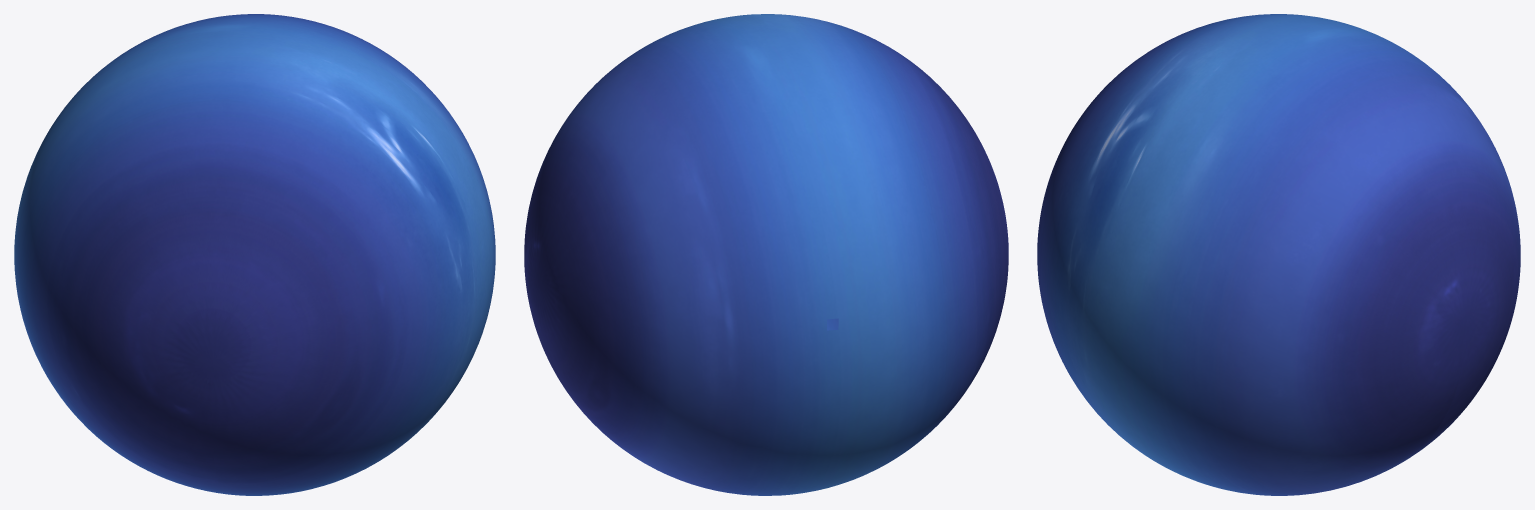
Rendered from neptune2.glb.
3 renders of one model, left to right at view 1: azimuth 30°, elevation 25°; view 2: azimuth 150°, elevation 25°; view 3: azimuth 270°, elevation 25°, orthographic.
Bounding box in the file's own units: 12.61 × 12.58 × 12.62.
1 material, 1 textured.
